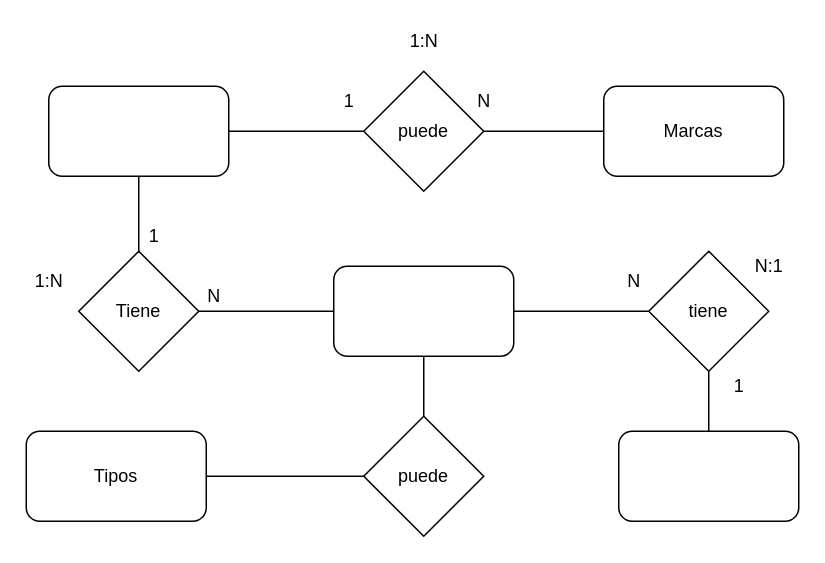
The diagram is 825 pixels wide and 563 high, and some of its shapes have lost their labels. Here are the shapes that lost their labels. From the top down, the box of each, then its label:
(47, 85, 229, 176): Usuarios
(332, 265, 514, 356): Modelos
(617, 430, 799, 521): Gama
